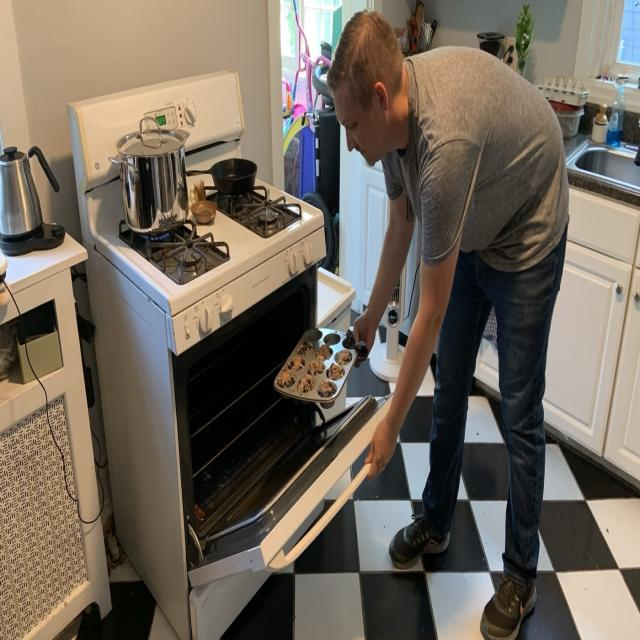knob_OFF: (125, 223, 183, 246)
knob_ON: (244, 202, 302, 227)
